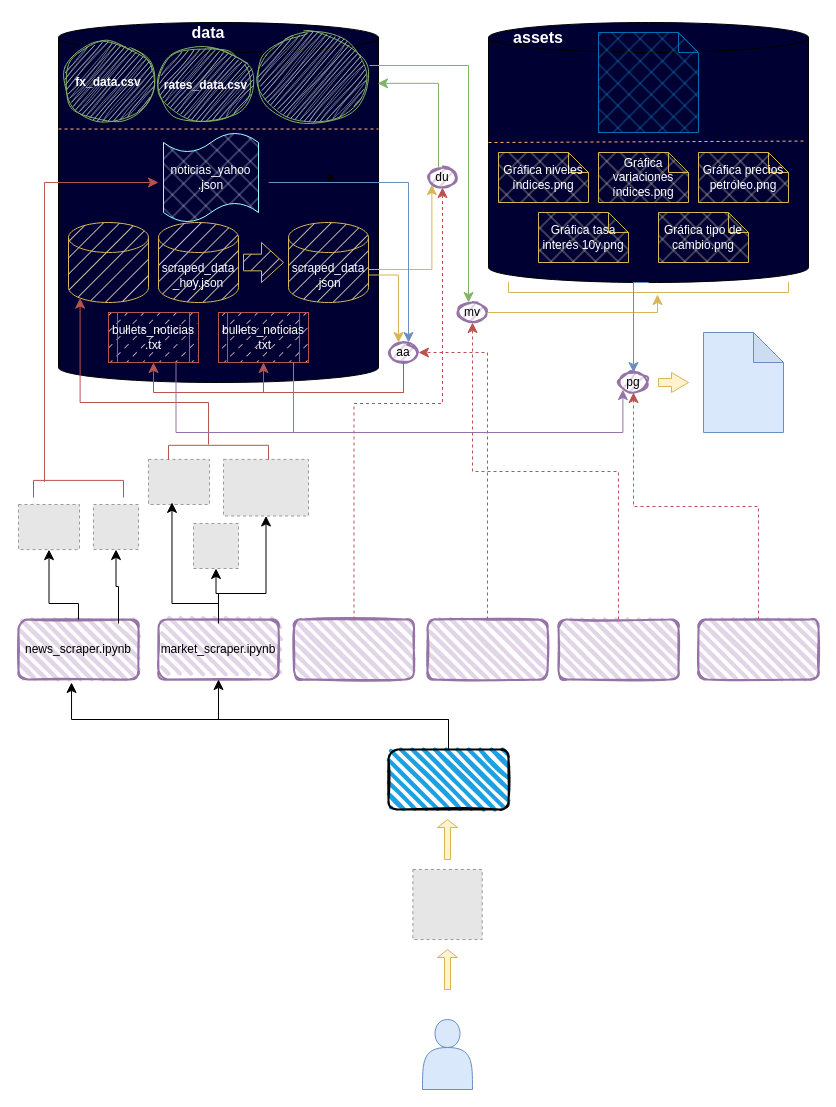
Some shapes in this 836 by 1107 pixel diagram are drawn without their labels. Grey dashed boxes stand in for pictures. The shapes that lost their labels are listed below. From the top down, each one's centre as x and y in pixels, then its label:
At point 313,77: "crude_prices .csv".
At point 648,82: "Imágenes para PDF".
At point 108,262: "scraped_data _ayer.json".
At point 743,382: "Reporte diario de mercados financieros".
At point 353,649: "data_updater.ipynb".
At point 487,649: "analysis_agent.ipynb".
At point 618,649: "market_visualizer.ipynb".
At point 758,649: "pdf_generator.ipynb".
At point 448,779: "main.py".
